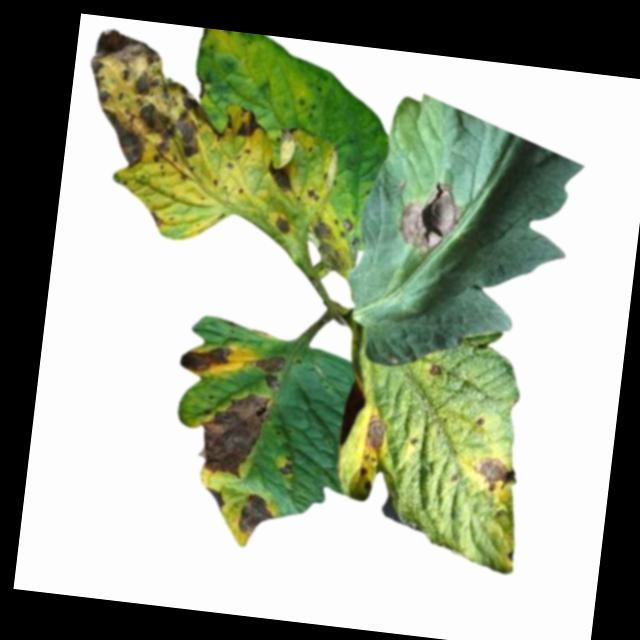Early_blight: (78, 23, 244, 180), (195, 386, 272, 482), (392, 173, 467, 260), (304, 210, 354, 272), (174, 336, 233, 377), (237, 487, 278, 540), (467, 453, 519, 494), (251, 353, 285, 393), (262, 157, 295, 197), (360, 410, 388, 456), (235, 106, 266, 144), (199, 485, 227, 511), (277, 122, 299, 146), (354, 466, 374, 491), (274, 453, 295, 476), (273, 211, 293, 235), (425, 360, 443, 378), (303, 183, 321, 201)
